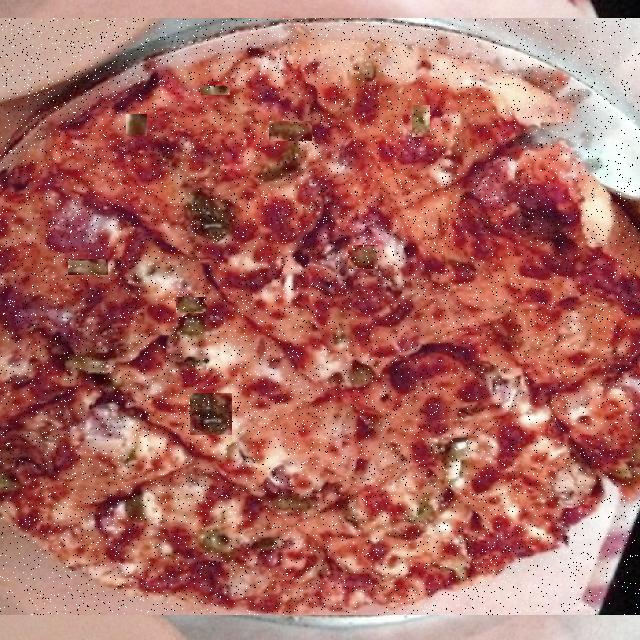Jalapenoes: (190, 393, 232, 435), (269, 121, 312, 141), (348, 245, 378, 269), (68, 259, 108, 275), (412, 105, 430, 137), (176, 297, 207, 313), (126, 114, 147, 136), (202, 86, 232, 95), (0, 144, 14, 161)
Pizza: (0, 18, 640, 615)
